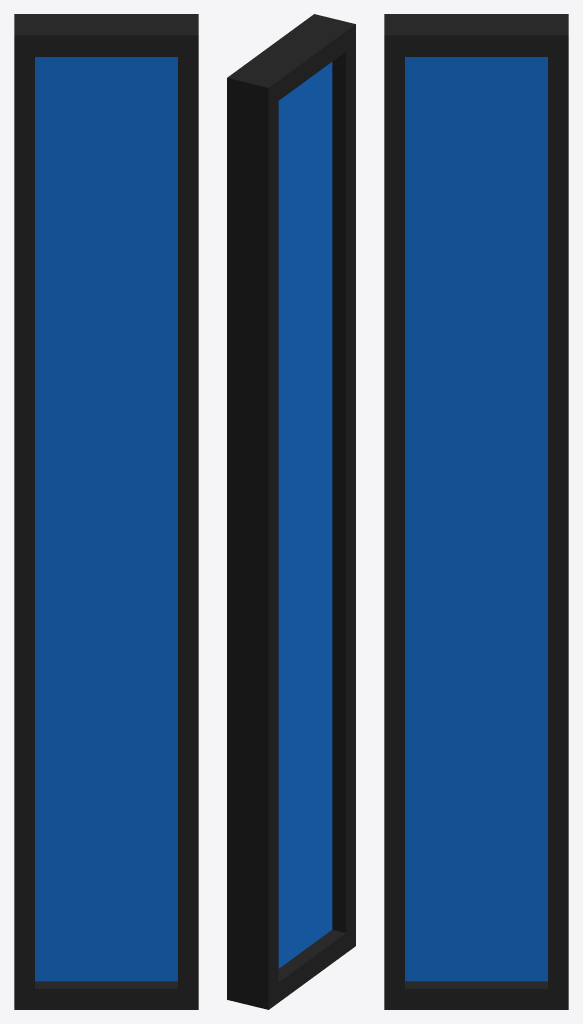
Rendered from advertbanner_04.fbx.
3 renders of one model, left to right at view 1: azimuth 90°, elevation 25°; view 2: azimuth 150°, elevation 25°; view 3: azimuth 270°, elevation 25°, orthographic. The views are drawn at different scales.
Visible parts, largest first — view 1: advertbanner_04; view 2: advertbanner_04; view 3: advertbanner_04.
Boxes of the visible parts, <box> form: advertbanner_04: <box>14,14,198,1009</box>; advertbanner_04: <box>227,14,355,1009</box>; advertbanner_04: <box>384,14,568,1009</box>.
Size of the model in its own units: 0.1776 by 3.77 by 0.6448.
